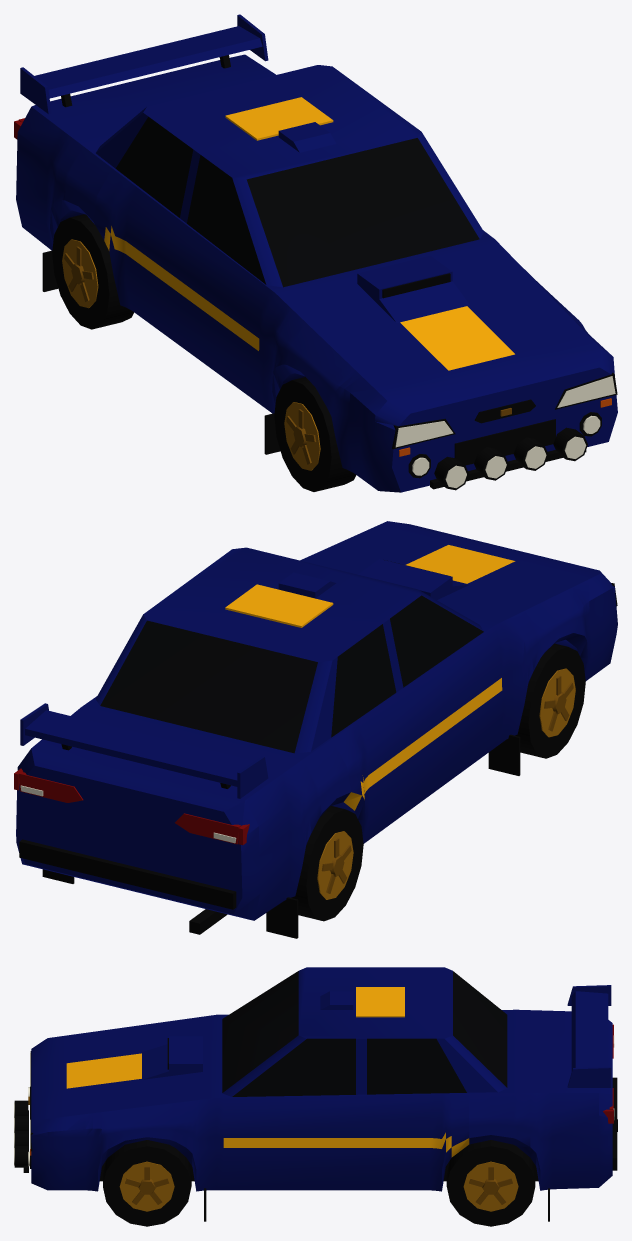
The model's file is impreza-555.glb.
3 renders of one model, top to bottom at view 1: azimuth 30°, elevation 25°; view 2: azimuth 150°, elevation 25°; view 3: azimuth 270°, elevation 25°, orthographic. The views are drawn at different scales.
Parts seen in each view (by area): view 1: body, cabin, cabin-body, body-yellow, wing, bonnet-scoop, wheel-back-right, wheel-front-right, roof-mark, mouth, rim-back-right, rim-front-right (+6 smaller); view 2: body, cabin, cabin-body, wing, body-yellow, bumper-rear, wheel-back-right, wheel-front-right, roof-mark, bonnet-scoop, rim-front-right, rim-back-right (+7 smaller); view 3: body, cabin, cabin-body, body-yellow, wheel-back-left, wheel-front-left, wing, bonnet-scoop, rim-front-left, rim-back-left, roof-mark, wing-plate-left (+3 smaller).
Part boxes in pixels (<box>): body: <box>16,54,617,492</box>; cabin: <box>115,116,479,287</box>; cabin-body: <box>96,65,483,287</box>; body-yellow: <box>104,226,514,370</box>; wing: <box>35,26,262,98</box>; bonnet-scoop: <box>357,255,469,322</box>; wheel-back-right: <box>52,214,133,329</box>; wheel-front-right: <box>274,377,356,491</box>; roof-mark: <box>225,97,333,140</box>; mouth: <box>454,419,555,465</box>; rim-back-right: <box>62,239,98,308</box>; rim-front-right: <box>284,402,320,470</box>; body: <box>16,521,617,920</box>; cabin: <box>100,595,483,753</box>; cabin-body: <box>95,547,483,753</box>; wing: <box>25,710,253,786</box>; body-yellow: <box>344,545,515,810</box>; bumper-rear: <box>19,839,236,909</box>; wheel-back-right: <box>291,806,363,921</box>; wheel-front-right: <box>515,643,585,758</box>; roof-mark: <box>225,584,333,627</box>; bonnet-scoop: <box>358,559,469,599</box>; rim-front-right: <box>539,668,575,737</box>; rim-back-right: <box>317,831,353,899</box>; body: <box>31,1009,612,1191</box>; cabin: <box>222,971,507,1096</box>; cabin-body: <box>222,967,506,1096</box>; body-yellow: <box>66,1053,469,1157</box>; wheel-back-left: <box>446,1140,535,1226</box>; wheel-front-left: <box>103,1140,191,1226</box>; wing: <box>571,991,608,1071</box>; bonnet-scoop: <box>142,1036,202,1079</box>; rim-front-left: <box>119,1161,174,1211</box>; rim-back-left: <box>463,1161,518,1211</box>; roof-mark: <box>356,987,404,1017</box>; wing-plate-left: <box>567,1067,611,1087</box>.
Size of the model in its own units: 1.72 by 1.46 by 4.43.
